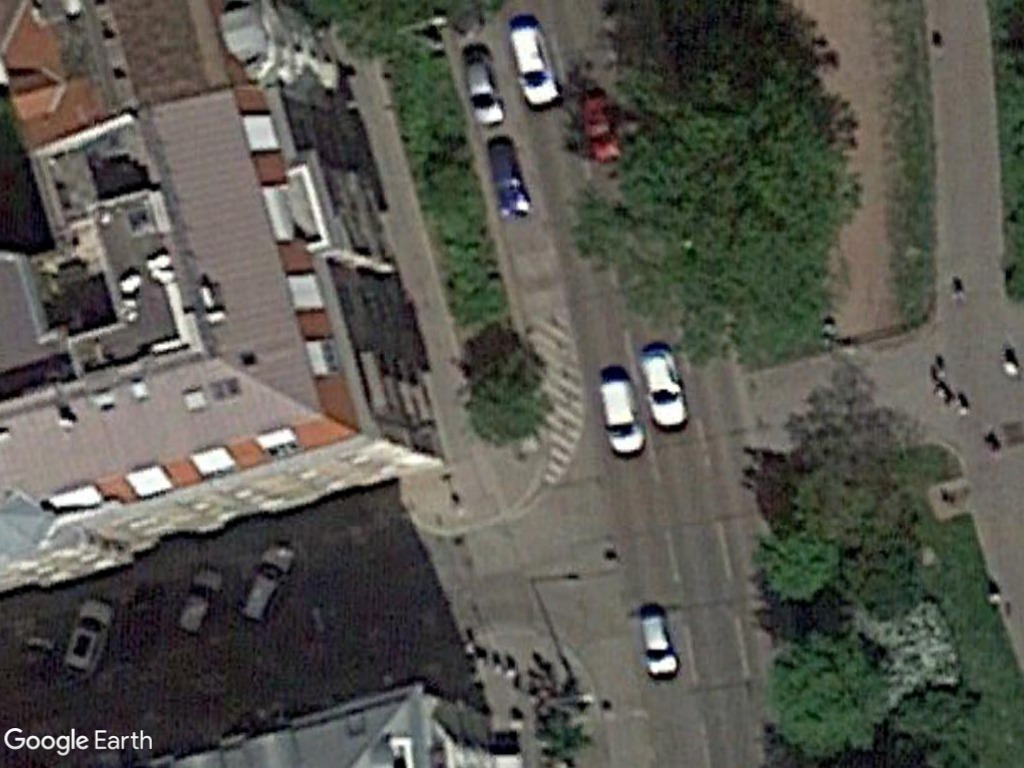car: (508, 21, 565, 110), (637, 346, 693, 433), (460, 46, 508, 132), (636, 610, 683, 684)
van: (595, 374, 648, 462)
